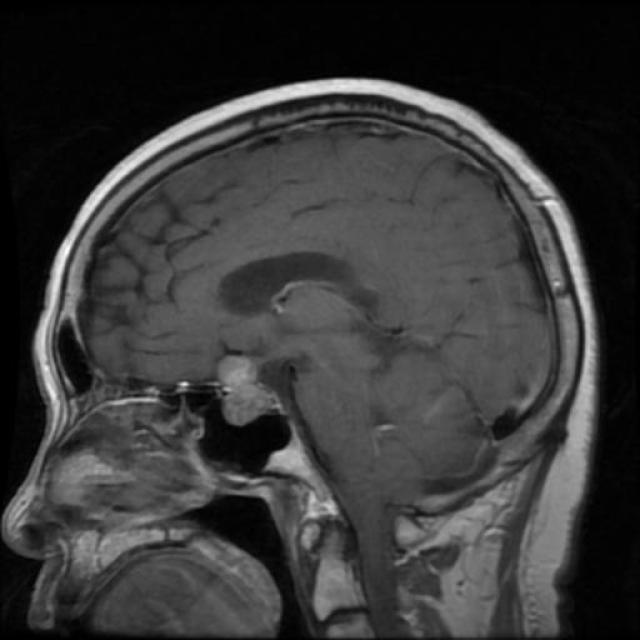pituitary: (202, 340, 290, 430)
